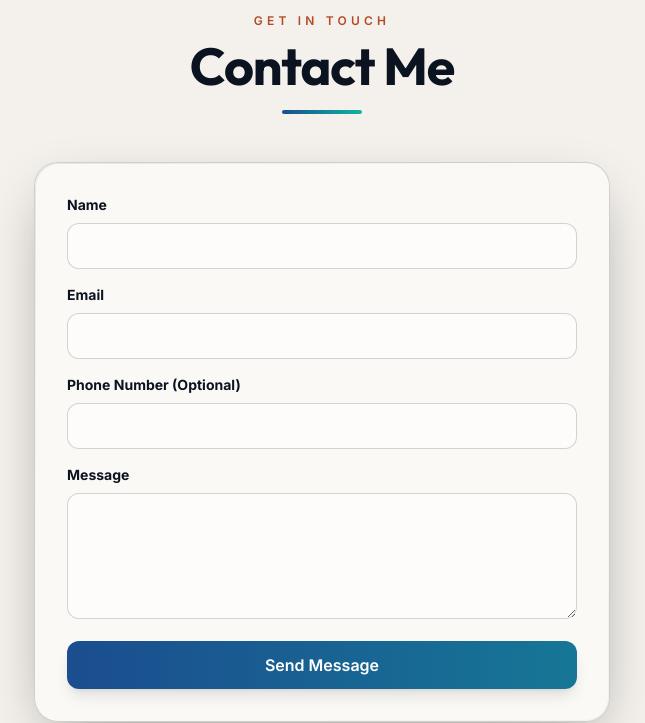
Test: returns to idle and hides the error alert once the user edits a field
The width and height of the screenshot is (645, 723).
Type "Ada" into the field labelled "Name" at (322,246), box [67, 223, 577, 269]
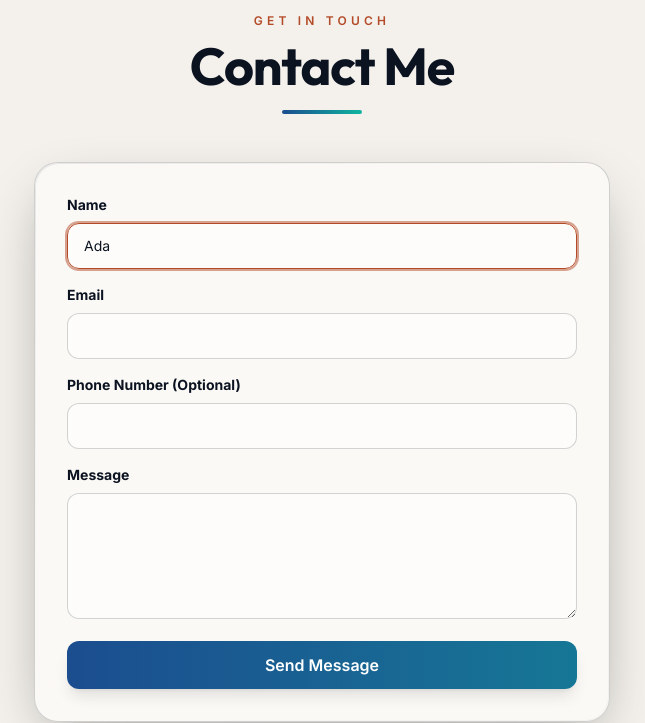
Type "ada@example.com" into the field labelled "Email" at (322,336), box [67, 313, 577, 359]
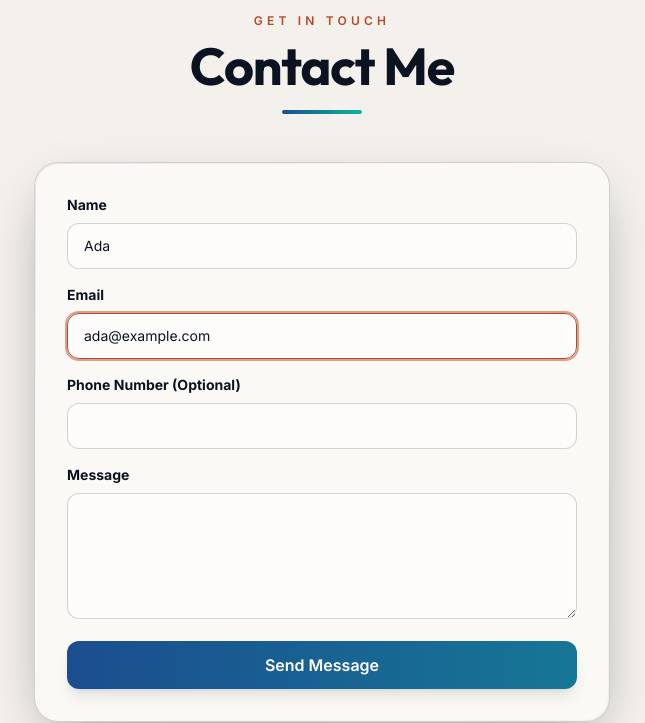
Type "Hello there" into the text box labelled "Message" at (322,556), box [67, 493, 577, 619]
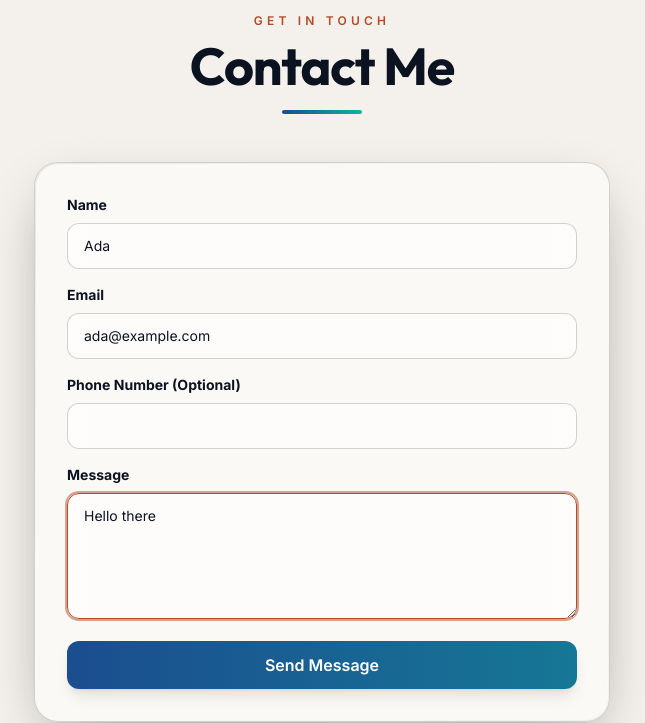
Click the button "Send Message" at (322,665), box [67, 641, 577, 689]
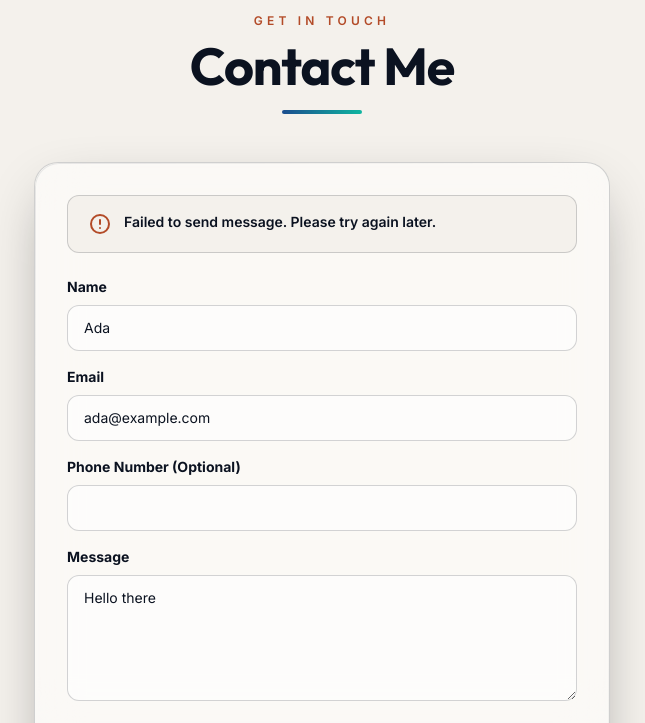
Result: the message "Failed to send message. Please try again later." is shown at [67, 195, 577, 253]
Type " Lovelace" into the field labelled "Name" at (322,328), box [67, 305, 577, 351]
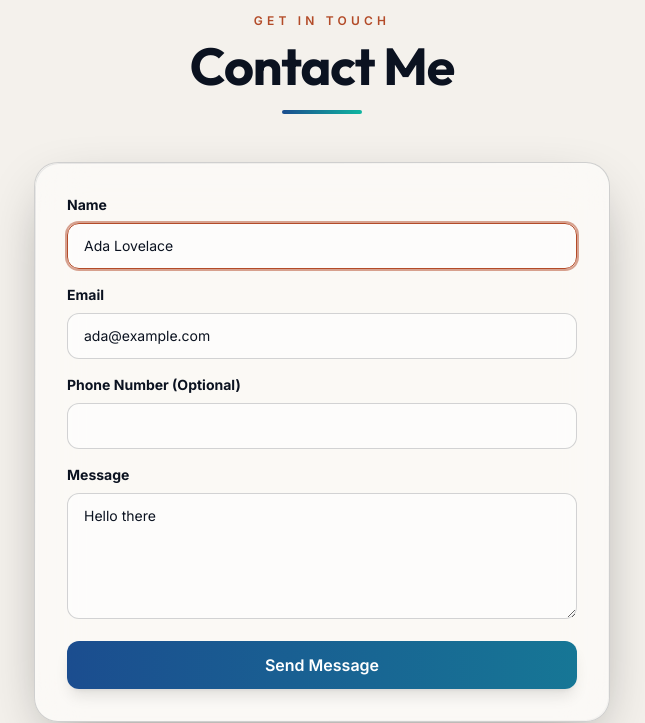
Result: the message "Failed to send message. Please try again later." is gone
